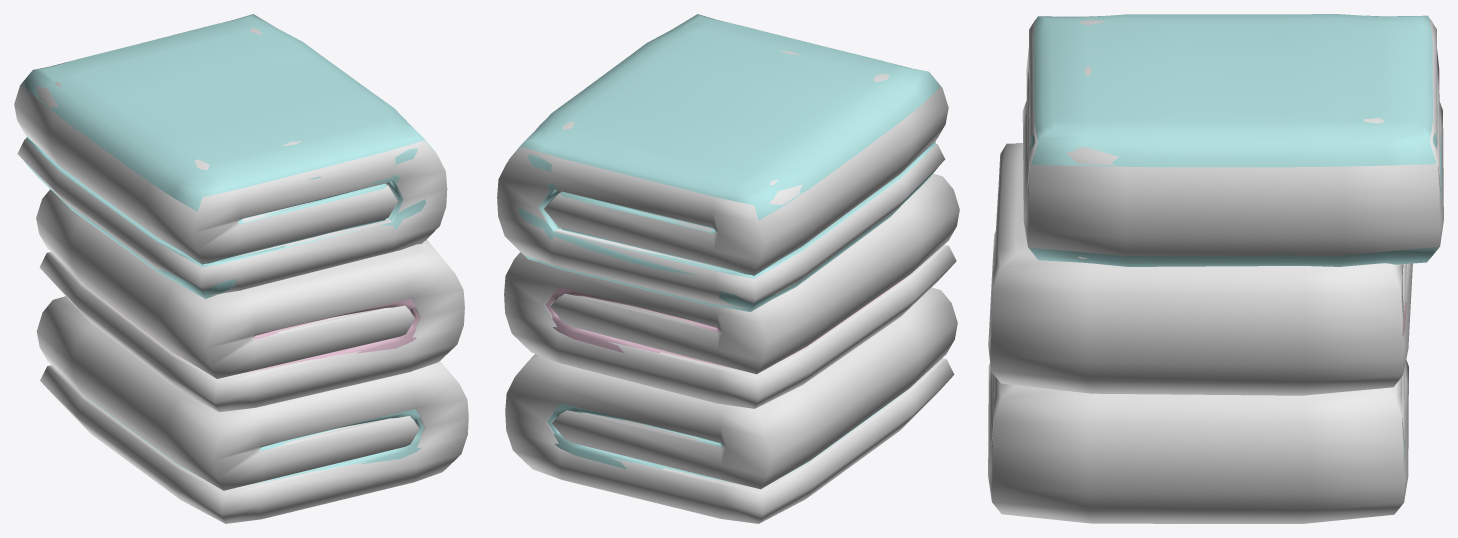
The model's file is Folded_towels.fbx.
3 views of the same model, side by side, from view 1: azimuth 30°, elevation 25°; view 2: azimuth 150°, elevation 25°; view 3: azimuth 270°, elevation 25° (orthographic). The views are drawn at different scales.
Visible parts, largest first — view 1: Towel_folded.002, Towel_folded.001Proxy, Towel_folded.003Proxy, Towel_folded.002Proxy, Towel_folded.003, Towel_folded.001; view 2: Towel_folded.002, Towel_folded.003Proxy, Towel_folded.001Proxy, Towel_folded.002Proxy, Towel_folded.003, Towel_folded.001; view 3: Towel_folded.002, Towel_folded.001Proxy, Towel_folded.003Proxy, Towel_folded.002Proxy.
Boxes of the visible parts, <box> form: Towel_folded.002: <box>22,14,436,298</box>; Towel_folded.001Proxy: <box>36,189,464,411</box>; Towel_folded.003Proxy: <box>36,296,468,523</box>; Towel_folded.002Proxy: <box>14,28,447,295</box>; Towel_folded.003: <box>85,396,423,485</box>; Towel_folded.001: <box>84,284,419,374</box>; Towel_folded.002: <box>509,14,940,311</box>; Towel_folded.003Proxy: <box>505,287,957,523</box>; Towel_folded.001Proxy: <box>504,173,959,408</box>; Towel_folded.002Proxy: <box>497,50,948,308</box>; Towel_folded.003: <box>547,390,906,483</box>; Towel_folded.001: <box>545,277,906,368</box>; Towel_folded.002: <box>1026,14,1441,266</box>; Towel_folded.001Proxy: <box>988,143,1412,395</box>; Towel_folded.003Proxy: <box>988,360,1408,523</box>; Towel_folded.002Proxy: <box>1022,16,1443,258</box>.
Bounding box in the file's own units: 31.34 × 35.85 × 38.27.
